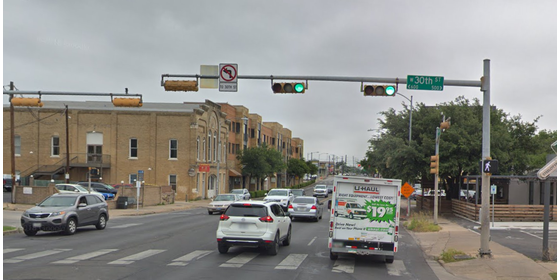no left turn sign: (218, 62, 239, 91)
street name sign: (407, 73, 444, 92)
